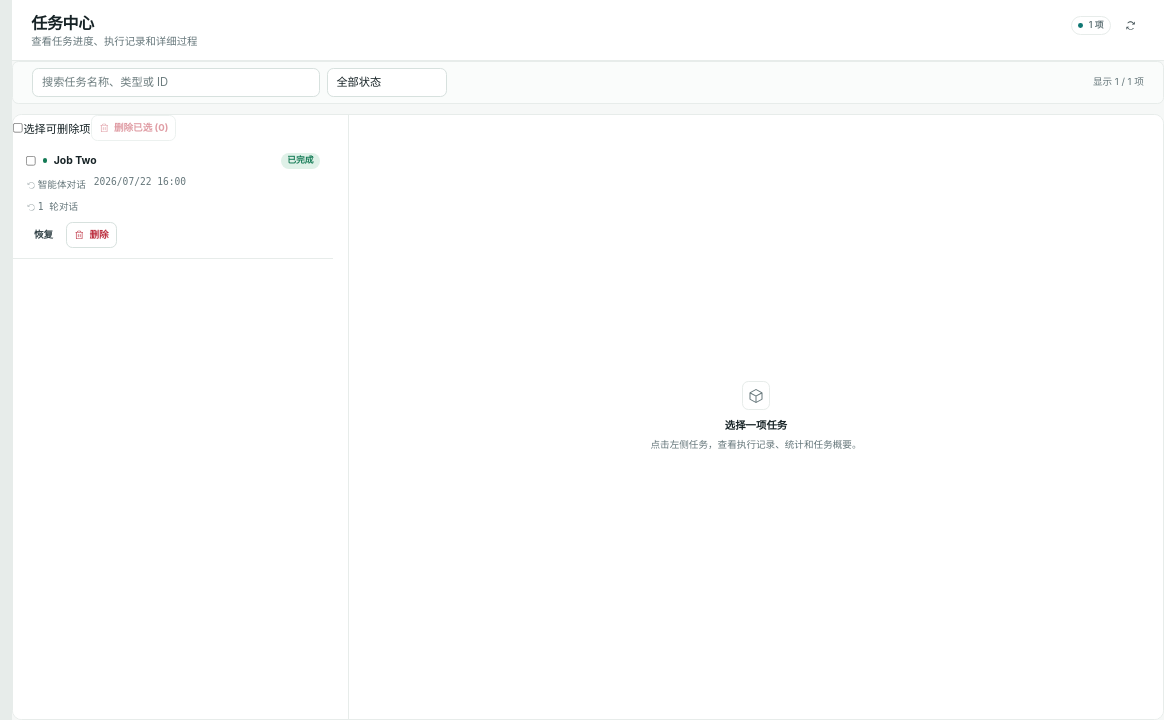
OperationsPage › loads missing job run records by run_id
Step 1. Click the text "Job Two" → point(75, 161), box [54,154,97,167]
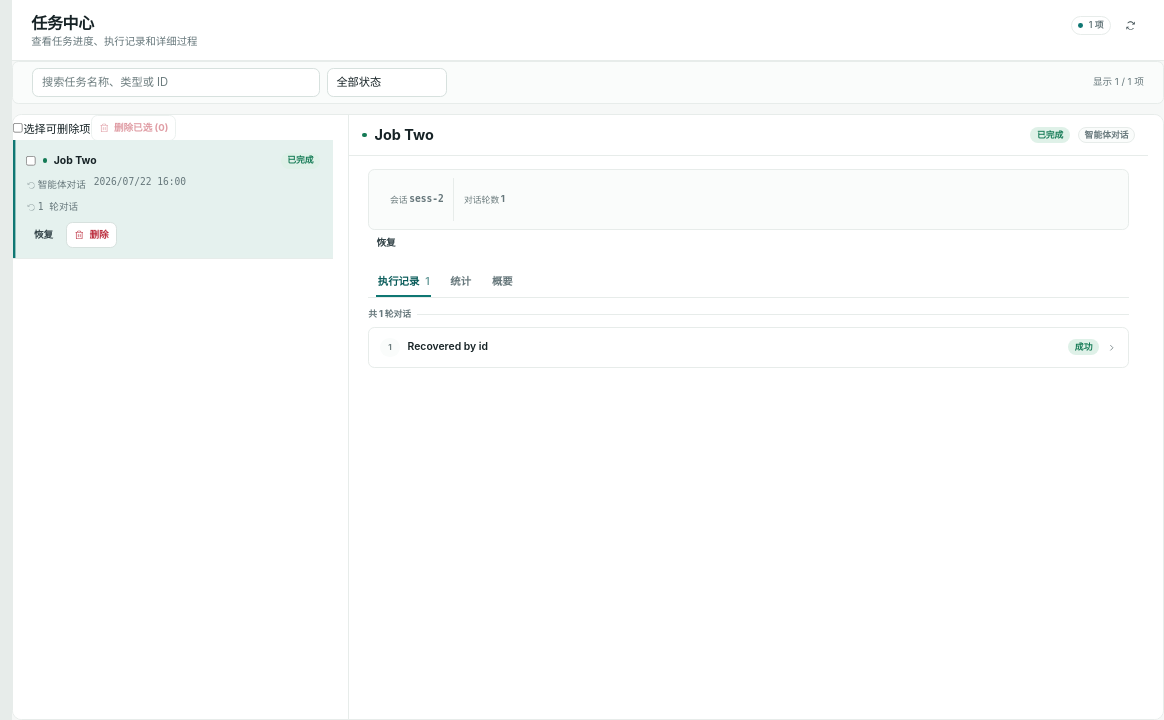
Now the text "Recovered by id" is shown, box [408,340,488,353]
